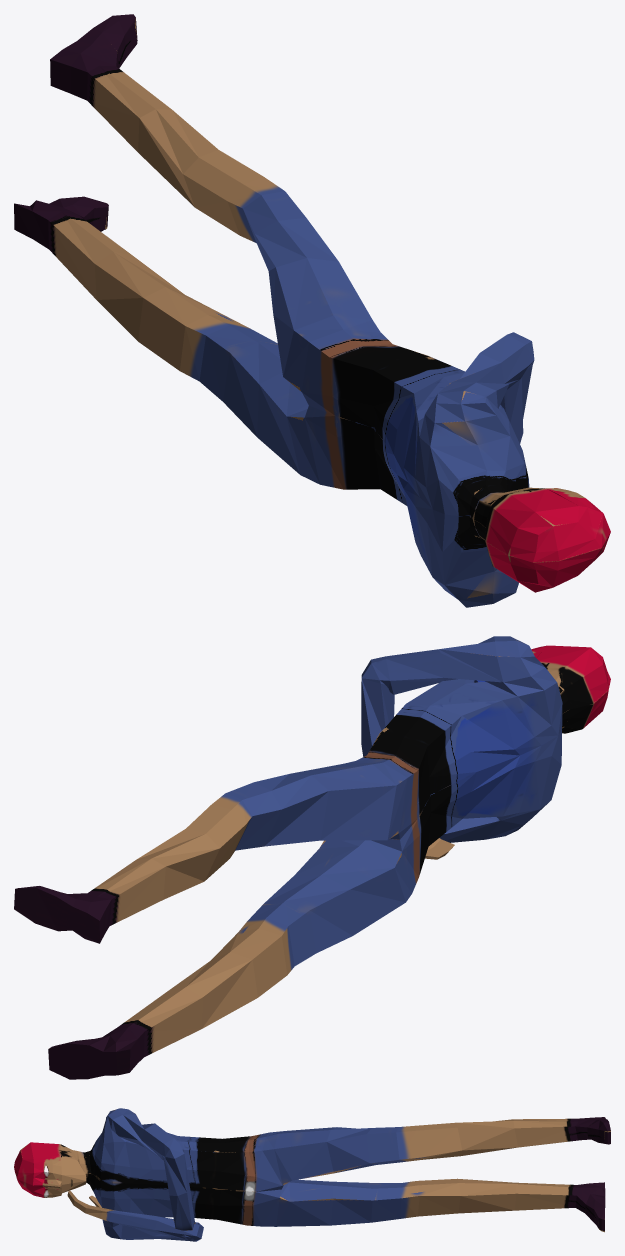
The model's file is mirrorman_000023.obj.
3 renders of one model, top to bottom at view 1: azimuth 30°, elevation 25°; view 2: azimuth 150°, elevation 25°; view 3: azimuth 270°, elevation 25°, orthographic. The views are drawn at different scales.
Visible parts, largest first — view 1: mirrorman_Cube.001_Material.001; view 2: mirrorman_Cube.001_Material.001; view 3: mirrorman_Cube.001_Material.001.
Boxes of the visible parts, x1=… form: mirrorman_Cube.001_Material.001: x1=14, y1=14, x2=610, y2=607; mirrorman_Cube.001_Material.001: x1=14, y1=636, x2=610, y2=1079; mirrorman_Cube.001_Material.001: x1=14, y1=1108, x2=610, y2=1241.
Size of the model in its own units: 0.3296 by 0.4723 by 1.91.
Materials: 1 (1 with a texture image).
